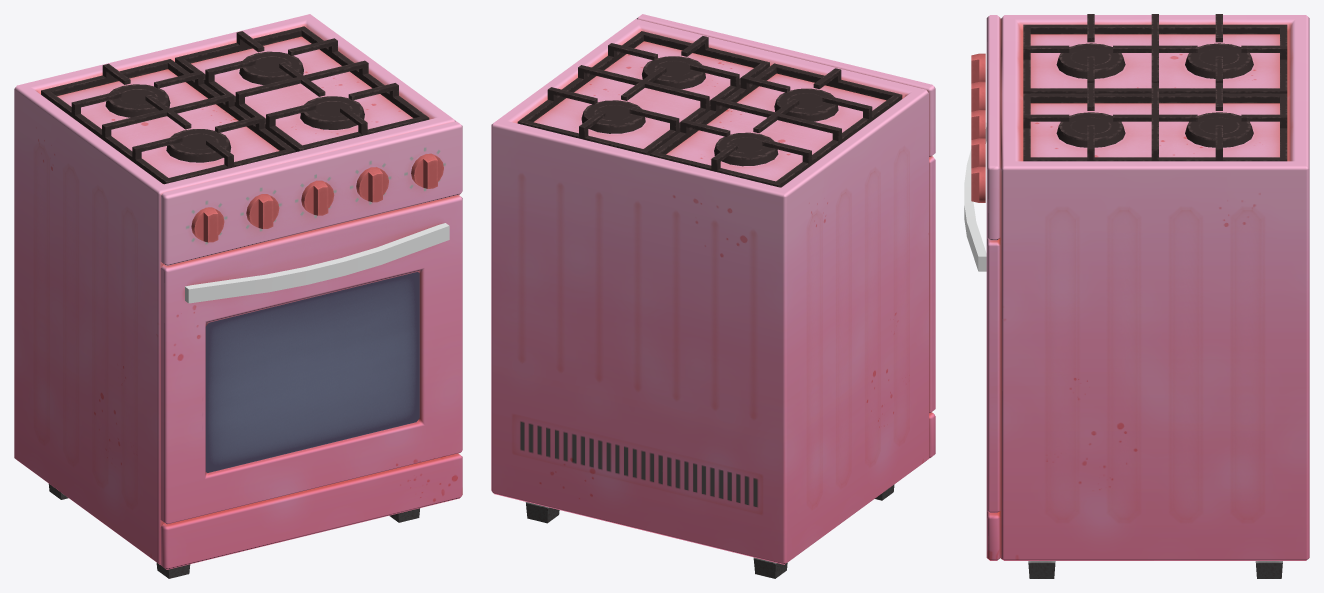
File: Stove.fbx
3 views of the same model, side by side, from view 1: azimuth 30°, elevation 25°; view 2: azimuth 150°, elevation 25°; view 3: azimuth 270°, elevation 25° (orthographic). The views are drawn at different scales.
Visible parts, largest first — view 1: Stove; view 2: Stove; view 3: Stove.
Boxes of the visible parts, x1,y1,x2,y2 form: Stove: (14, 14, 462, 578); Stove: (491, 14, 935, 578); Stove: (964, 14, 1309, 578).
Size of the model in its own units: 200 by 263 by 190.
